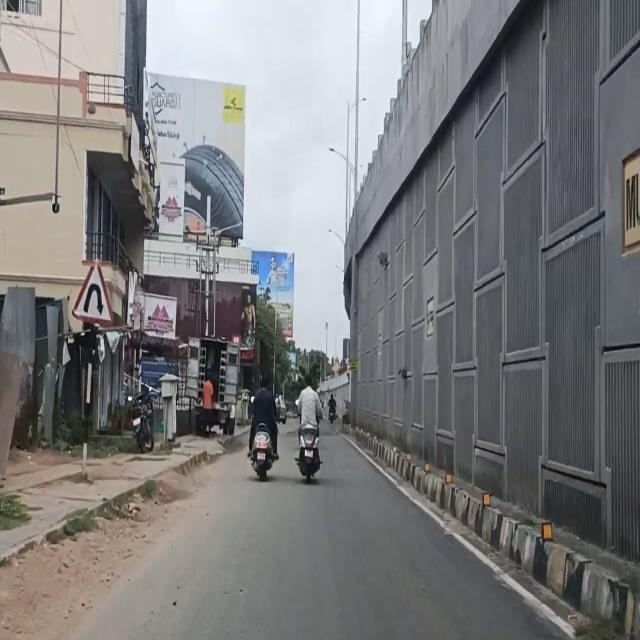bien_nguy_hiem: (72, 260, 113, 327)
